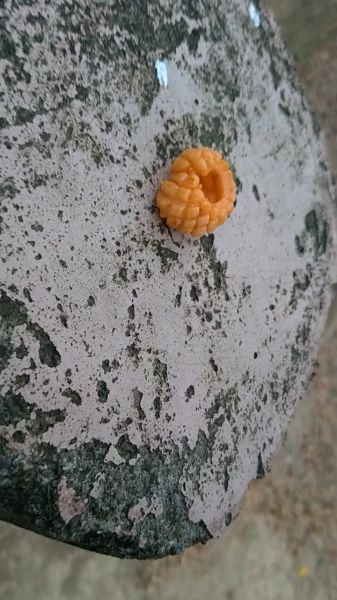eggs: (150, 138, 244, 242)
